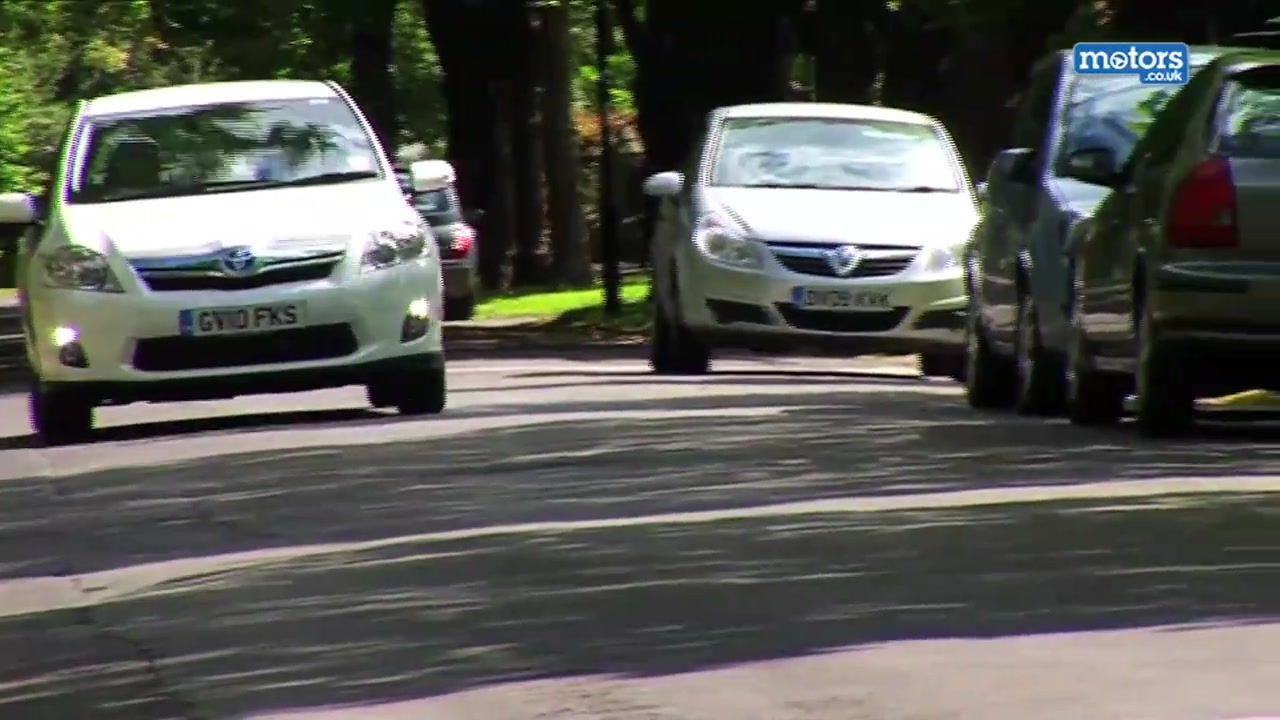car: (5, 75, 457, 438), (963, 38, 1280, 423), (638, 94, 995, 384), (1056, 45, 1280, 437), (392, 163, 477, 324)
